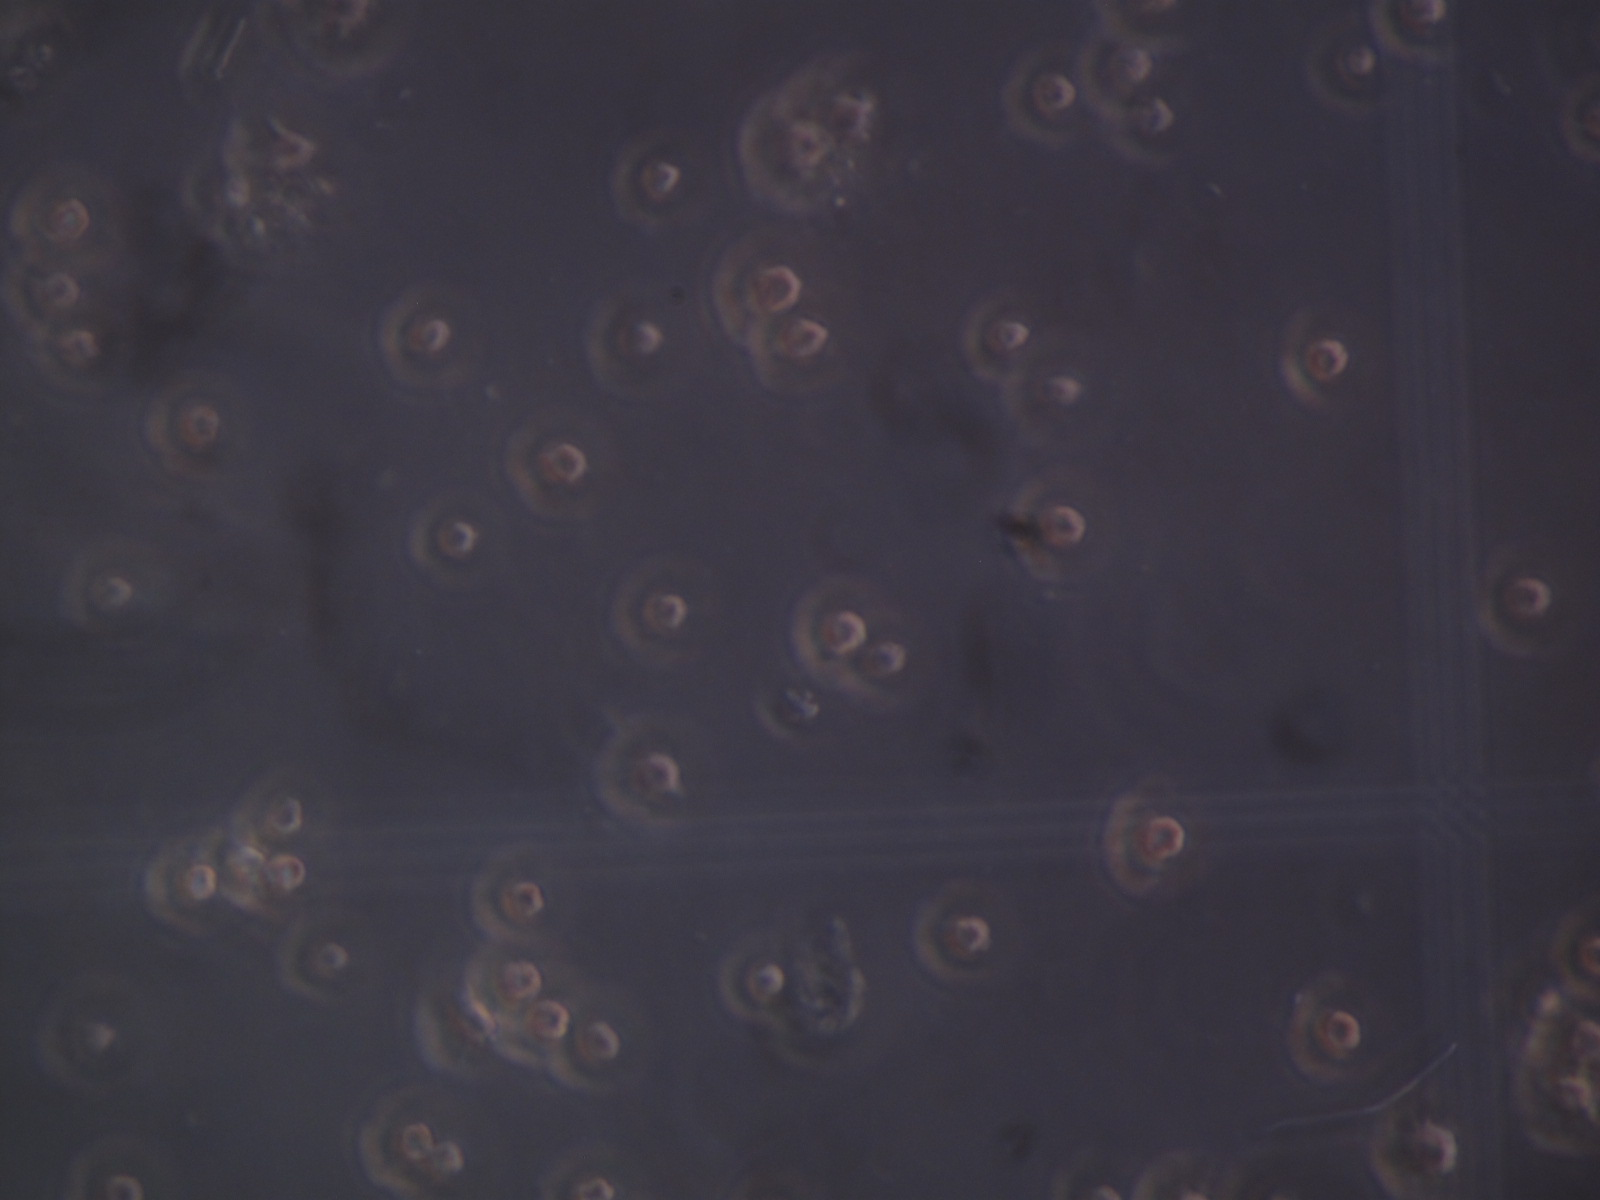hemo: (39, 971, 159, 1092), (741, 95, 837, 213), (595, 713, 680, 829), (714, 234, 801, 345), (505, 412, 588, 523), (1288, 964, 1361, 1087), (1007, 470, 1083, 584), (548, 979, 622, 1093), (1368, 1109, 1459, 1200), (582, 292, 661, 396), (609, 563, 688, 667), (1478, 550, 1551, 661), (1107, 795, 1187, 896), (1002, 54, 1087, 147), (791, 581, 866, 687), (1276, 308, 1351, 412), (913, 887, 993, 984), (1304, 33, 1395, 117), (380, 285, 450, 391), (751, 309, 833, 398), (1078, 24, 1151, 124), (360, 1092, 433, 1189), (813, 49, 874, 164), (960, 289, 1031, 388), (64, 1133, 168, 1200), (609, 134, 680, 229), (470, 855, 544, 945), (1002, 366, 1080, 451), (843, 611, 906, 717), (144, 842, 218, 932), (147, 371, 222, 458), (9, 173, 91, 251), (1369, 1, 1463, 69), (60, 543, 132, 630), (719, 939, 787, 1025), (283, 916, 351, 1002), (1106, 91, 1178, 170), (409, 505, 477, 589), (467, 942, 542, 1017), (6, 263, 81, 326), (1551, 908, 1600, 1002), (499, 998, 569, 1064), (238, 776, 302, 843), (29, 320, 101, 379), (544, 1148, 616, 1200), (214, 839, 266, 909), (265, 846, 306, 896)
